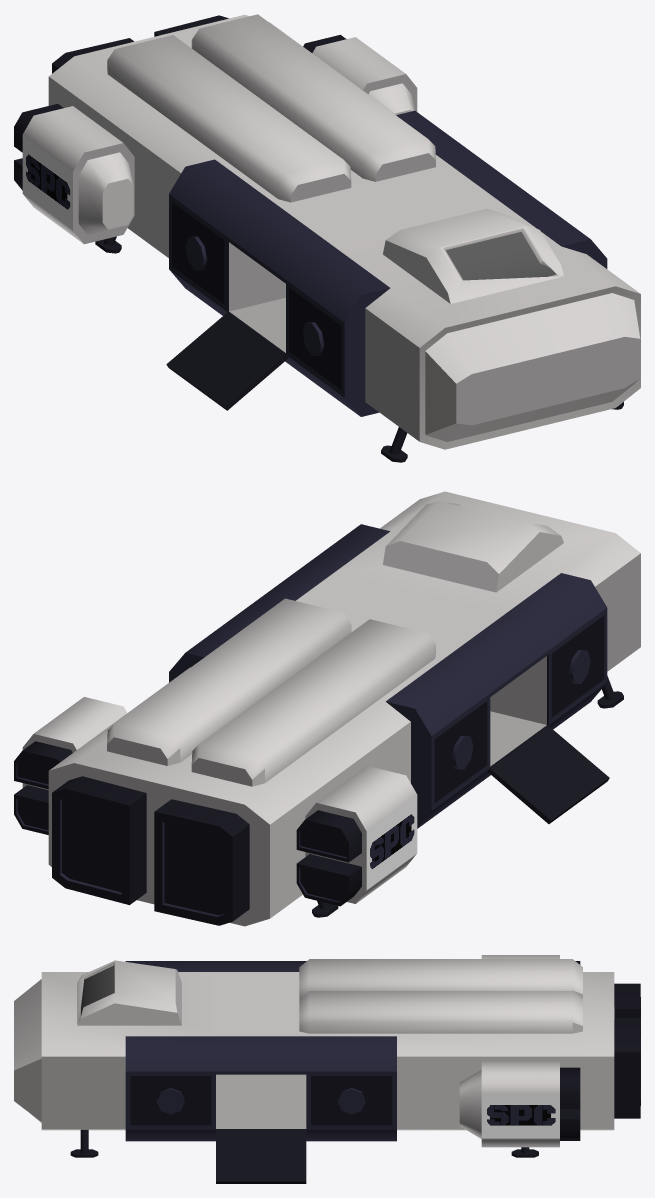
The model's file is bigtransport.fbx.
3 renders of one model, top to bottom at view 1: azimuth 30°, elevation 25°; view 2: azimuth 150°, elevation 25°; view 3: azimuth 270°, elevation 25°, orthographic. The views are drawn at different scales.
Visible parts, largest first — view 1: bigtransport; view 2: bigtransport; view 3: bigtransport.
Boxes of the visible parts, bbox=[...] form: bigtransport: bbox=[14, 14, 640, 462]; bigtransport: bbox=[14, 491, 640, 926]; bigtransport: bbox=[14, 955, 640, 1183].
Bounding box in the file's own units: 16.43 × 7.26 × 30.03.
